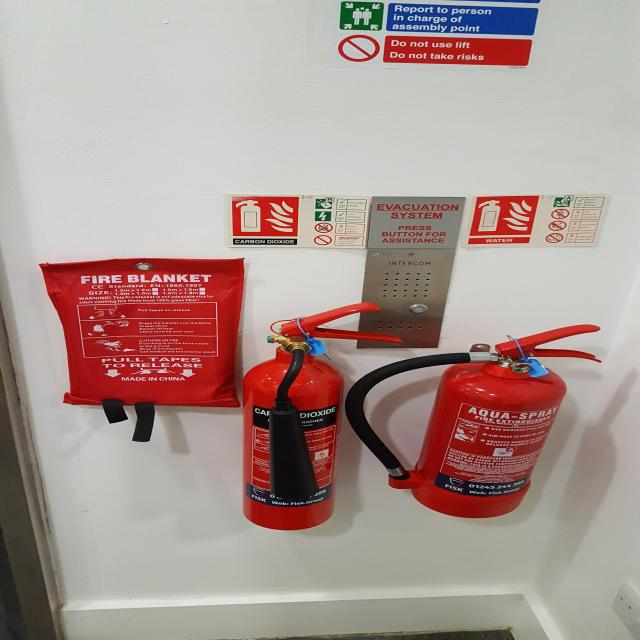fire_extinguisher: (339, 320, 607, 520), (232, 301, 408, 532)
